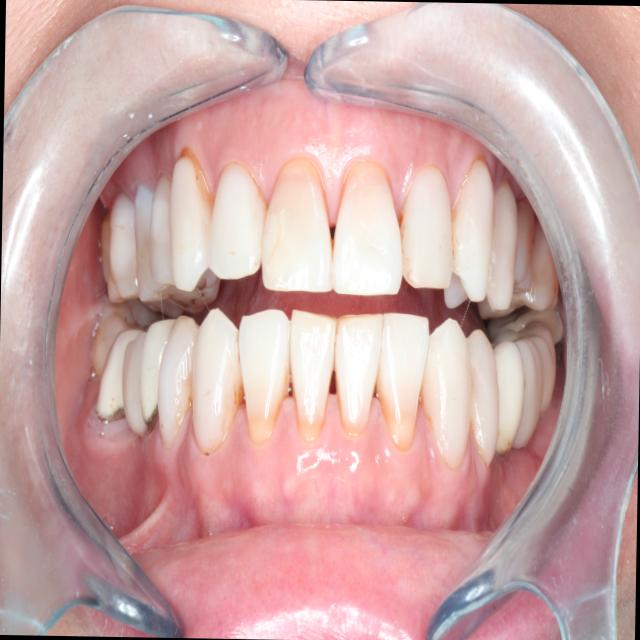tooth: (324, 141, 407, 308), (253, 145, 335, 305), (415, 305, 478, 470), (197, 151, 271, 291), (370, 298, 434, 456), (160, 147, 223, 300), (189, 300, 248, 458), (282, 295, 340, 453), (398, 153, 457, 306), (445, 139, 497, 310), (234, 307, 292, 454), (155, 309, 208, 452), (458, 318, 505, 477), (480, 323, 530, 469), (332, 307, 385, 439), (122, 176, 169, 312), (490, 323, 560, 412), (92, 323, 150, 430), (102, 184, 149, 312), (136, 307, 184, 432), (484, 166, 522, 322), (503, 333, 548, 453), (522, 203, 567, 316), (118, 328, 160, 443), (487, 293, 565, 354), (84, 294, 139, 376), (145, 170, 180, 294), (505, 183, 539, 302), (92, 200, 120, 292)
